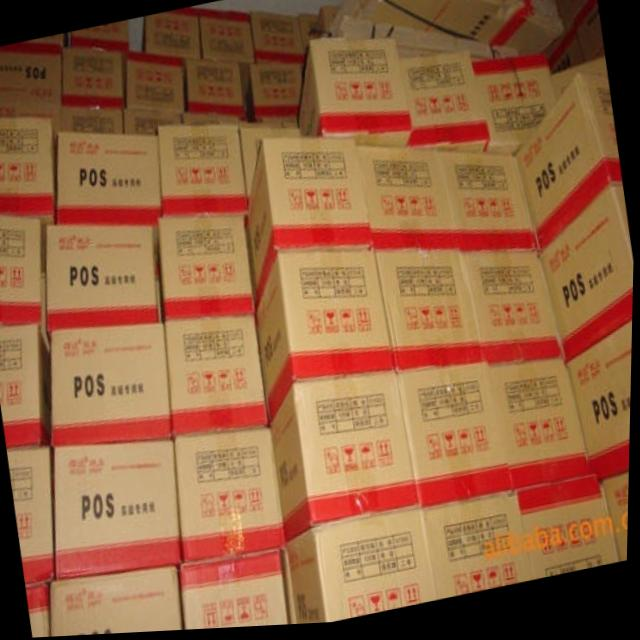box: (275, 381, 419, 544), (258, 255, 396, 423), (248, 139, 374, 307), (520, 81, 622, 259), (57, 444, 183, 580), (290, 515, 439, 627), (541, 195, 635, 364), (402, 371, 516, 510), (54, 327, 174, 447), (178, 435, 286, 564), (49, 228, 163, 341), (493, 366, 593, 493), (378, 257, 484, 375), (300, 40, 412, 151), (167, 318, 270, 437), (426, 498, 535, 603), (465, 258, 564, 366), (521, 482, 623, 584), (359, 153, 459, 254), (59, 135, 164, 229), (571, 330, 634, 484), (162, 217, 256, 320), (441, 159, 537, 257), (52, 569, 185, 637), (401, 57, 492, 156), (183, 553, 291, 632), (160, 128, 249, 217), (475, 59, 555, 157), (9, 448, 59, 587), (0, 326, 52, 449), (0, 120, 57, 226), (0, 43, 62, 120), (243, 122, 304, 200), (0, 218, 43, 324), (63, 49, 124, 110), (187, 61, 246, 120), (129, 54, 185, 113), (199, 10, 255, 65), (143, 10, 201, 60), (252, 15, 305, 67), (252, 67, 303, 120), (552, 64, 607, 106), (606, 483, 631, 566), (70, 21, 131, 52), (62, 110, 123, 136), (126, 111, 183, 136), (29, 586, 52, 638), (184, 117, 243, 127), (25, 34, 63, 43)
